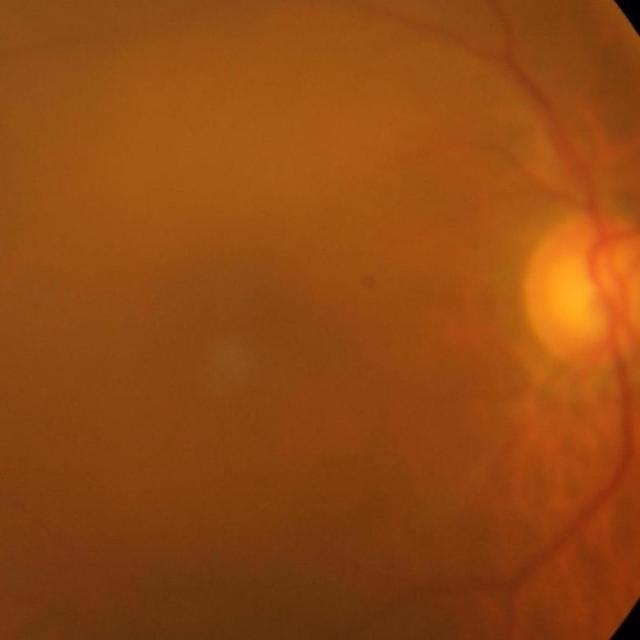OC: (548, 248, 622, 338)
OD: (528, 220, 638, 368)
